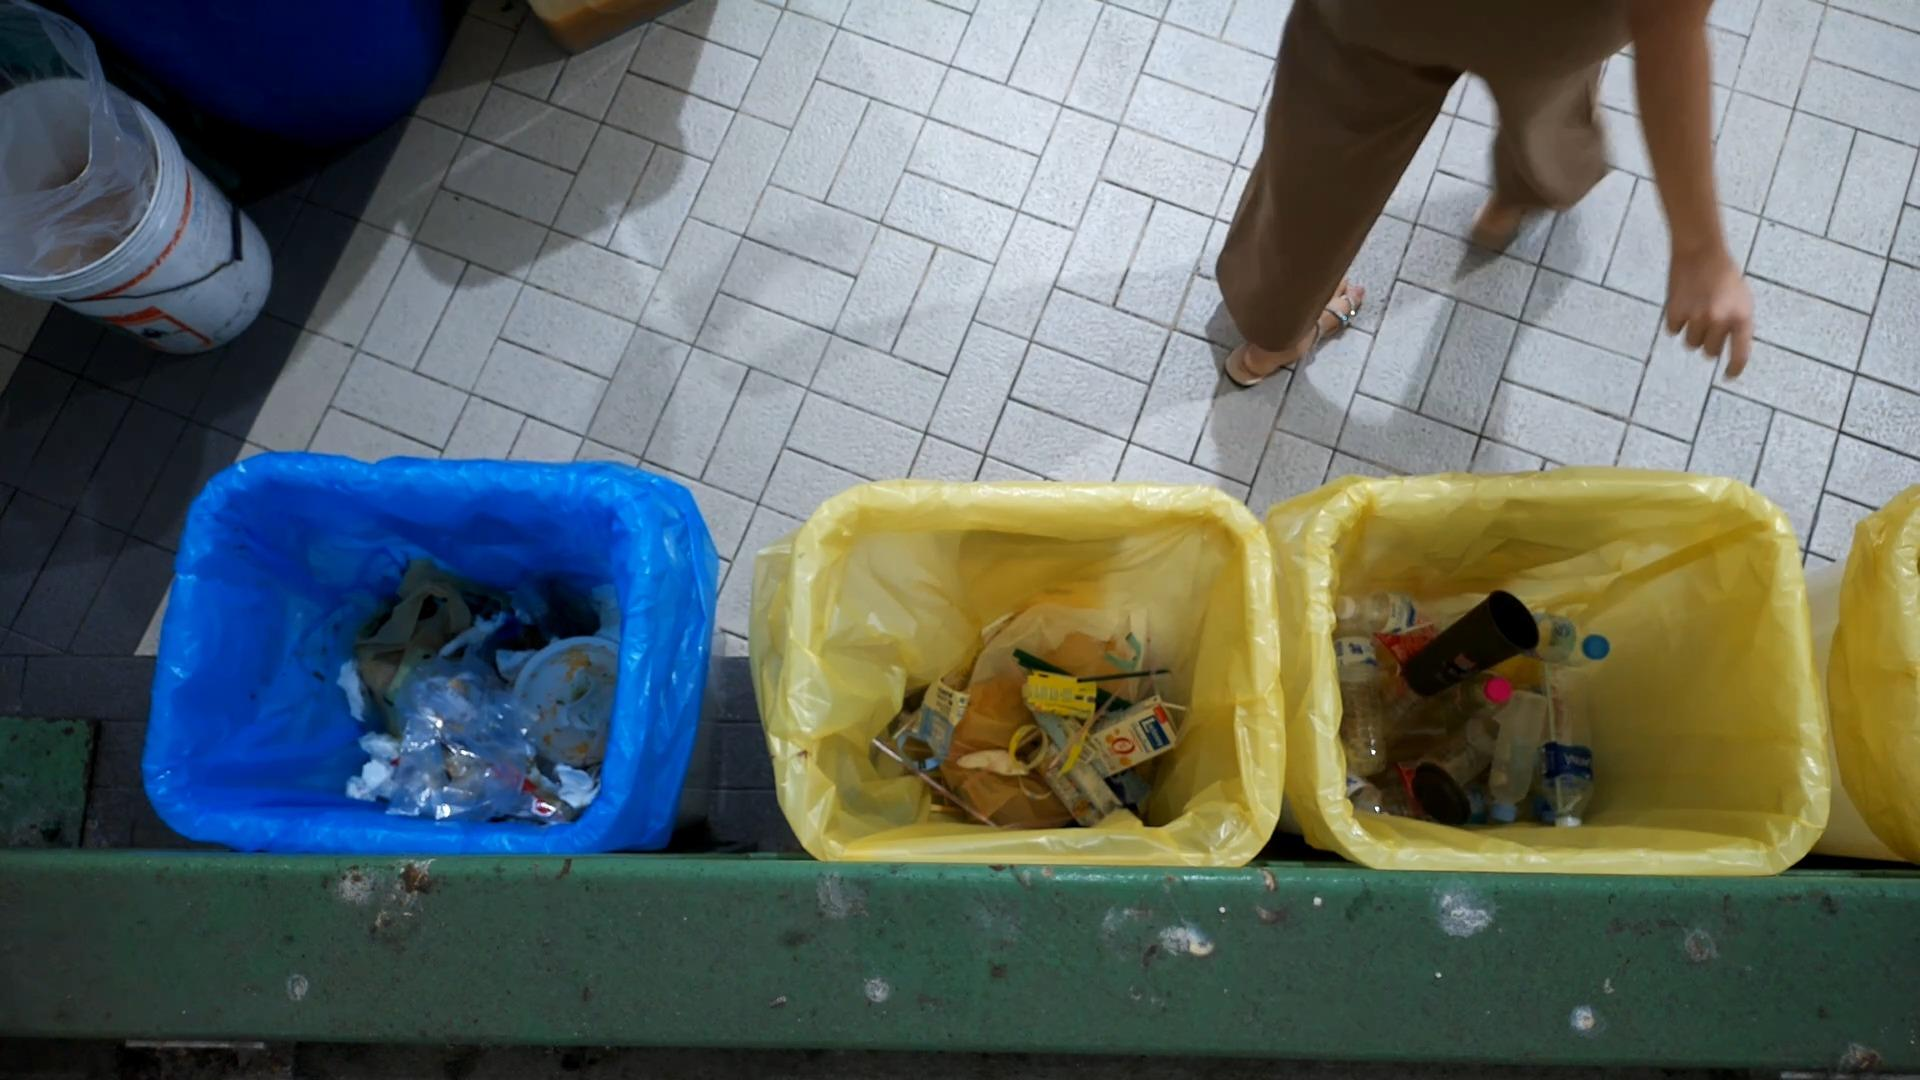dirty food container: (513, 626, 630, 771)
filled plastic bag: (343, 554, 534, 707)
milk carton: (1069, 683, 1179, 782), (1027, 735, 1130, 827), (897, 676, 973, 777)
plastic bag: (352, 653, 529, 825), (963, 596, 1154, 695)
plastic bottle: (1531, 651, 1600, 836), (1332, 611, 1387, 785), (1333, 580, 1485, 644), (1482, 684, 1545, 825), (1424, 669, 1516, 732), (1520, 607, 1615, 661)
plastic cup: (1395, 583, 1545, 703), (1406, 756, 1477, 829)
straw: (870, 738, 998, 829), (1539, 655, 1598, 819), (1005, 646, 1137, 713), (1047, 683, 1126, 770), (1055, 655, 1183, 687), (1155, 700, 1187, 713)
tissue paper: (545, 659, 611, 738), (547, 758, 607, 815), (334, 651, 373, 721), (955, 746, 1031, 777)
